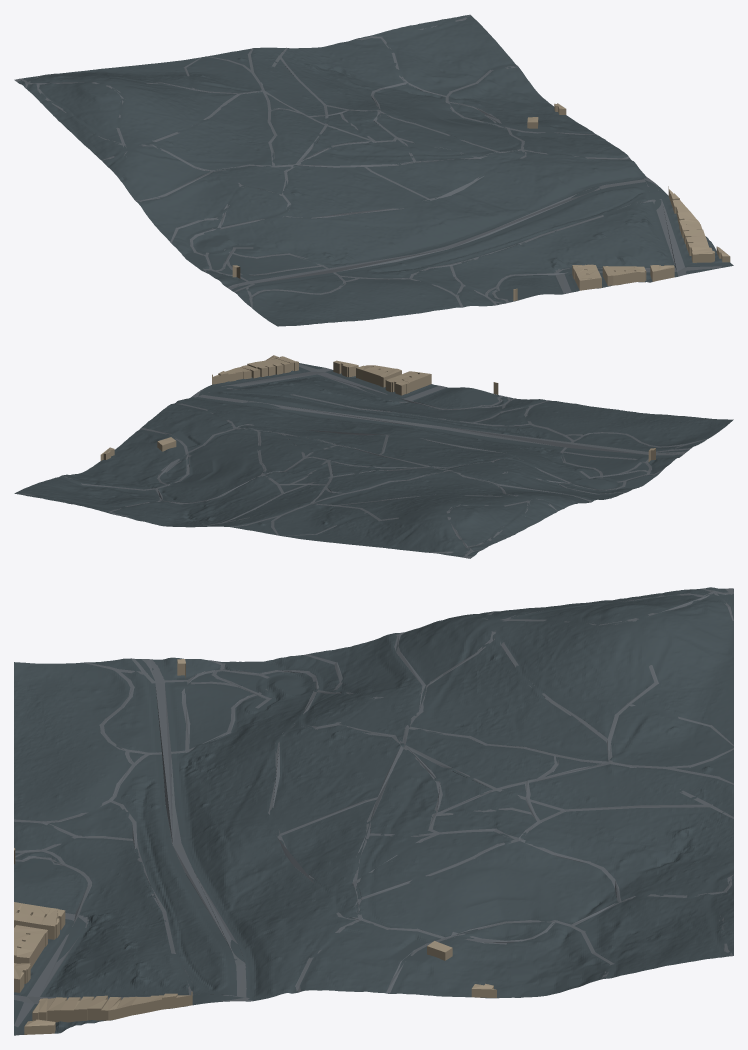
File: epsg26910-1435-10872.lod0.glb
3 views of the same model, one above another, from view 1: azimuth 30°, elevation 25°; view 2: azimuth 150°, elevation 25°; view 3: azimuth 270°, elevation 25° (orthographic). The views are drawn at different scales.
Parts seen in each view (by area): view 1: epsg26910-1435-10872-lod0; view 2: epsg26910-1435-10872-lod0; view 3: epsg26910-1435-10872-lod0.
Boxes of the visible parts, x1=… form: epsg26910-1435-10872-lod0: x1=14, y1=14, x2=733, y2=326; epsg26910-1435-10872-lod0: x1=14, y1=355, x2=733, y2=558; epsg26910-1435-10872-lod0: x1=14, y1=587, x2=733, y2=1035.
Size of the model in its own units: 384 by 88.98 by 384.
